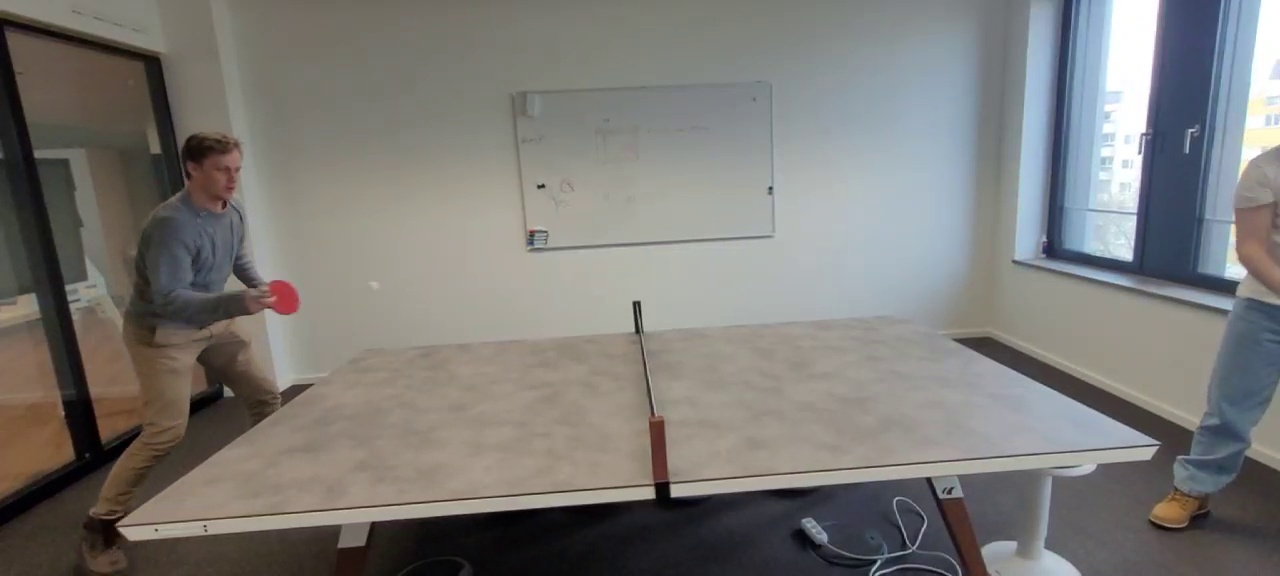1: (248, 280, 299, 316)
2: (367, 280, 380, 291)
ttplatte: (115, 313, 1159, 525)
